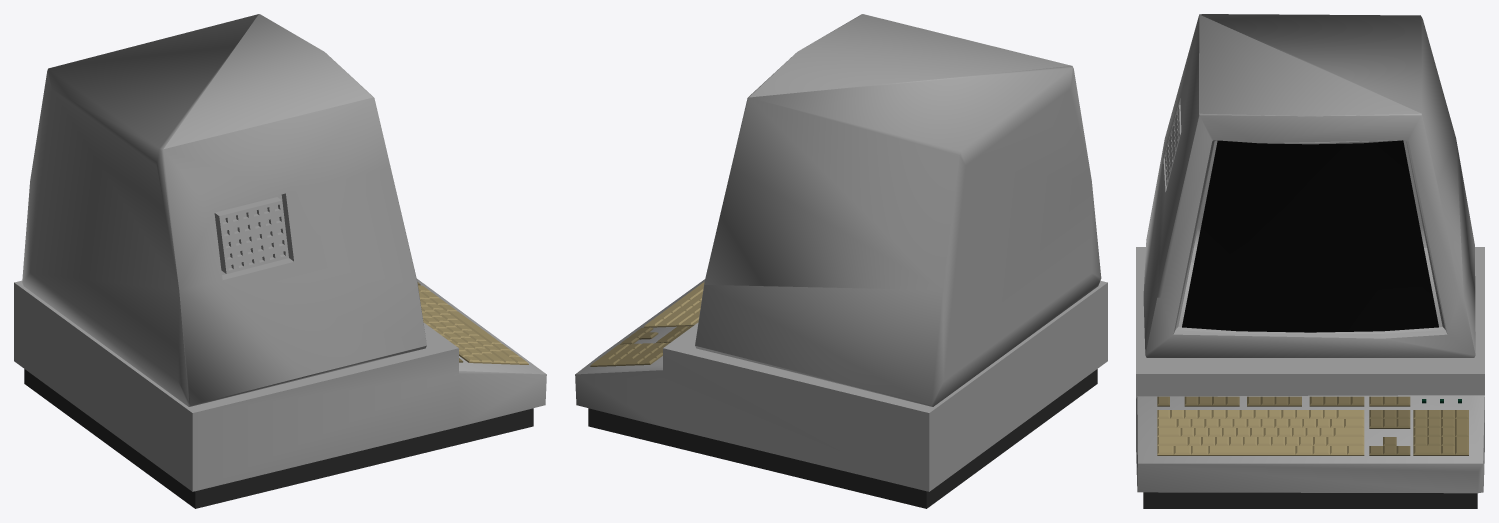
The model's file is monitor-05.lod.glb.
The picture shows the model from 3 angles, left to right: view 1: azimuth 30°, elevation 25°; view 2: azimuth 150°, elevation 25°; view 3: azimuth 270°, elevation 25°; orthographic projection. The views are drawn at different scales.
Parts seen in each view (by area): view 1: Mesh_Monitor_05; view 2: Mesh_Monitor_05; view 3: Mesh_Monitor_05.
Part boxes in pixels (<box>): Mesh_Monitor_05: <box>14,14,546,508</box>; Mesh_Monitor_05: <box>575,14,1107,508</box>; Mesh_Monitor_05: <box>1136,14,1484,508</box>.
Bounding box in the file's own units: 0.6896 × 0.6333 × 0.5993.
1 material, 1 textured.
